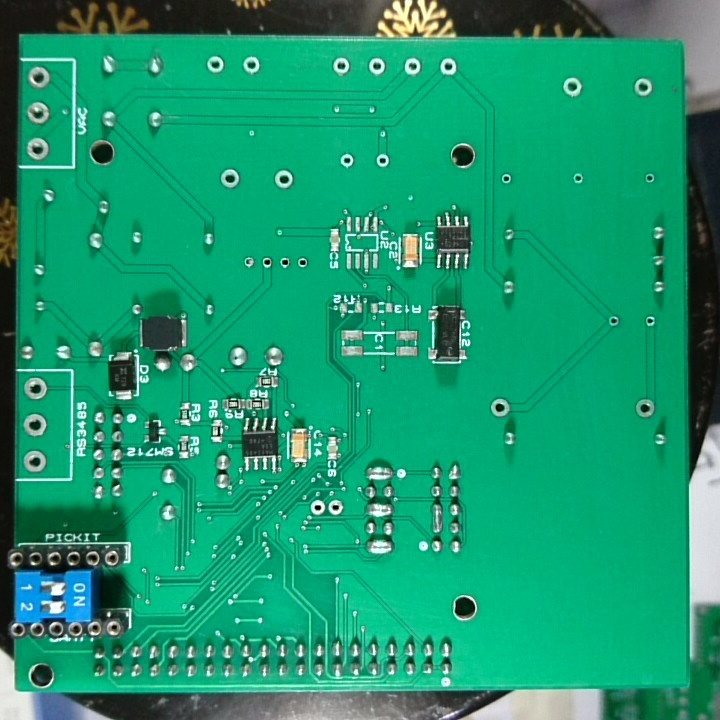F: (21, 447, 50, 475), (22, 375, 51, 403), (25, 64, 53, 92), (21, 411, 48, 439), (23, 135, 51, 162), (216, 165, 242, 192), (270, 166, 297, 192), (631, 395, 657, 422), (25, 100, 52, 126), (487, 395, 512, 420), (632, 75, 657, 100), (202, 53, 228, 77), (561, 75, 584, 102), (241, 54, 263, 78), (401, 54, 422, 79), (436, 55, 457, 79), (367, 55, 388, 78), (331, 55, 352, 78), (274, 249, 294, 272), (326, 496, 345, 520), (372, 149, 392, 171), (239, 252, 259, 273), (337, 150, 356, 171), (308, 497, 327, 518), (569, 169, 588, 189), (604, 311, 623, 331), (642, 310, 658, 332), (497, 170, 515, 188), (259, 252, 275, 272), (294, 253, 310, 272), (642, 169, 657, 189)
P: (362, 536, 399, 557), (362, 463, 396, 485), (362, 500, 396, 521), (428, 500, 447, 537)
